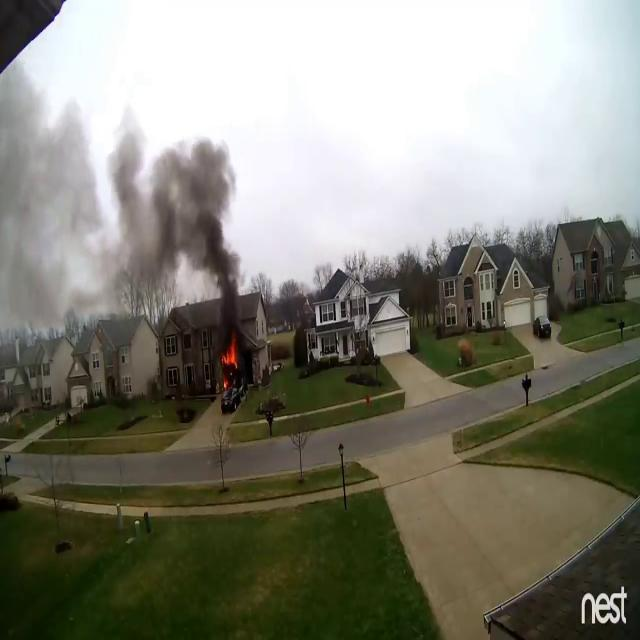Fire: (220, 340, 243, 388)
Smoke: (0, 50, 246, 352)
